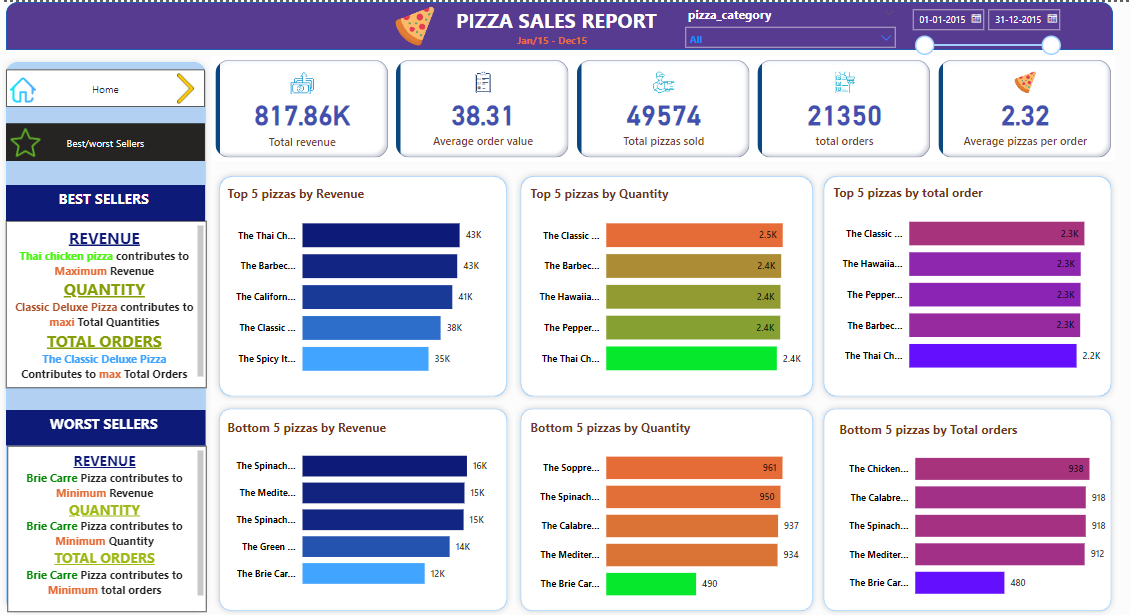

Layout of this report page (visuals, bound fields, positions):
{"tool":"powerbi","page":{"name":"Best/worst Sellers","canvas":[1510,820],"ordinal":1},"visuals":[{"type":"cardVisual","fields":{"Data":["pizza_sales.Total revenue","pizza_sales.Average order value","pizza_sales.Total pizzas sold","pizza_sales.total orders","pizza_sales.Average pizzas per order"]},"box":[282.2,71.9,1204.2,140.2],"z":0},{"type":"shape","box":[8,0,1476,64],"z":1000},{"type":"textbox","box":[597.5,0,287.7,53.5],"z":2000},{"type":"textbox","box":[684.2,35,114.3,36.9],"z":3000},{"type":"shape","box":[284,224,400,310],"z":4000},{"type":"shape","box":[0,71.9,282.2,748.7],"z":5000},{"type":"textbox","box":[7.4,243.4,265.6,47.9],"z":6000},{"type":"textbox","box":[7.5,292.5,267.5,222.5],"z":7000},{"type":"textbox","box":[8.6,544.3,265.7,47.1],"z":8000},{"type":"textbox","box":[9.2,592,265.6,221.3],"z":9000},{"type":"slicer","fields":{"Values":["pizza_sales.pizza_category"]},"box":[904,0,300,64],"z":10000},{"type":"slicer","fields":{"Values":["pizza_sales.order_date"]},"box":[1204.2,0,218.3,77.5],"z":11000},{"type":"shape","box":[686,224,406,310],"z":12000},{"type":"shape","box":[1090,224,400,310],"z":13000},{"type":"shape","box":[284,534.8,400.2,285.8],"z":14000},{"type":"shape","box":[686,534,406,286],"z":15000},{"type":"shape","box":[1090,534,400,286],"z":16000},{"type":"barChart","title":"Top 5 pizzas by Revenue ","fields":{"Category":["pizza_sales.pizza_name"],"Y":["pizza_sales.Total revenue"]},"box":[298,244,370,270],"z":17000},{"type":"barChart","title":"Bottom 5 pizzas by Revenue ","fields":{"Category":["pizza_sales.pizza_name"],"Y":["pizza_sales.Total revenue"]},"box":[298.7,556.9,368.8,239.7],"z":18000},{"type":"barChart","title":"Top 5 pizzas by Quantity","fields":{"Category":["pizza_sales.pizza_name"],"Y":["pizza_sales.Total pizzas sold"]},"box":[702.6,243.4,370.7,269.2],"z":19000},{"type":"barChart","title":"Bottom 5 pizzas by Quantity","fields":{"Category":["pizza_sales.pizza_name"],"Y":["pizza_sales.Total pizzas sold"]},"box":[702.6,556.9,370.7,256.3],"z":20000},{"type":"barChart","title":"Top 5 pizzas by total order","fields":{"Category":["pizza_sales.pizza_name"],"Y":["pizza_sales.total orders"]},"box":[1105.8,243,370.1,267.5],"z":21000},{"type":"barChart","title":"Bottom 5 pizzas by Total orders","fields":{"Category":["pizza_sales.pizza_name"],"Y":["pizza_sales.total orders"]},"box":[1114.7,557.3,370.1,251.9],"z":22000},{"type":"pageNavigator","box":[7.3,161.8,265.5,50.9],"z":23000},{"type":"pageNavigator","box":[7.3,90.9,265.5,50.9],"z":24000},{"type":"image","box":[220,90,54,50],"z":25000},{"type":"image","box":[7.6,91.2,45.3,50.6],"z":26000},{"type":"image","box":[8.8,161.8,51.8,50],"z":27000},{"type":"image","box":[520,0,65.7,64.3],"z":28000}]}

Visuals, with their boxes in screenshot pixels (x1, y1, x2, y2), scaled from the page's 1510x820 canvas onto the 1130x615 screenshot:
cardVisual - pizza_sales.Total revenue x pizza_sales.Average order value: region(211, 54, 1112, 159)
shape: region(6, 0, 1111, 48)
textbox: region(447, 0, 662, 40)
textbox: region(512, 26, 598, 54)
shape: region(213, 168, 512, 400)
shape: region(0, 54, 211, 614)
textbox: region(6, 183, 204, 218)
textbox: region(6, 219, 206, 386)
textbox: region(6, 408, 205, 444)
textbox: region(7, 444, 206, 610)
slicer - pizza_sales.pizza_category: region(677, 0, 901, 48)
slicer - pizza_sales.order_date: region(901, 0, 1065, 58)
shape: region(513, 168, 817, 400)
shape: region(816, 168, 1115, 400)
shape: region(213, 401, 512, 614)
shape: region(513, 400, 817, 614)
shape: region(816, 400, 1115, 614)
"Top 5 pizzas by Revenue " barChart: region(223, 183, 500, 386)
"Bottom 5 pizzas by Revenue " barChart: region(224, 418, 500, 597)
"Top 5 pizzas by Quantity" barChart: region(526, 183, 803, 384)
"Bottom 5 pizzas by Quantity" barChart: region(526, 418, 803, 610)
"Top 5 pizzas by total order" barChart: region(828, 182, 1104, 383)
"Bottom 5 pizzas by Total orders" barChart: region(834, 418, 1111, 607)
pageNavigator: region(5, 121, 204, 160)
pageNavigator: region(5, 68, 204, 106)
image: region(165, 68, 205, 105)
image: region(6, 68, 40, 106)
image: region(7, 121, 45, 159)
image: region(389, 0, 438, 48)
